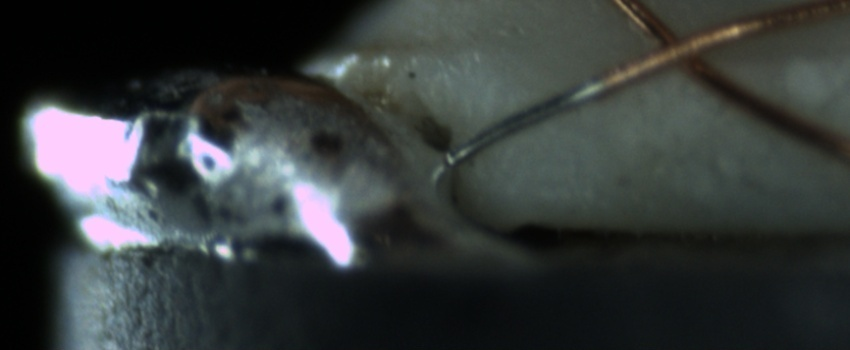CL: (629, 13, 730, 84)
TS: (438, 75, 601, 171)
